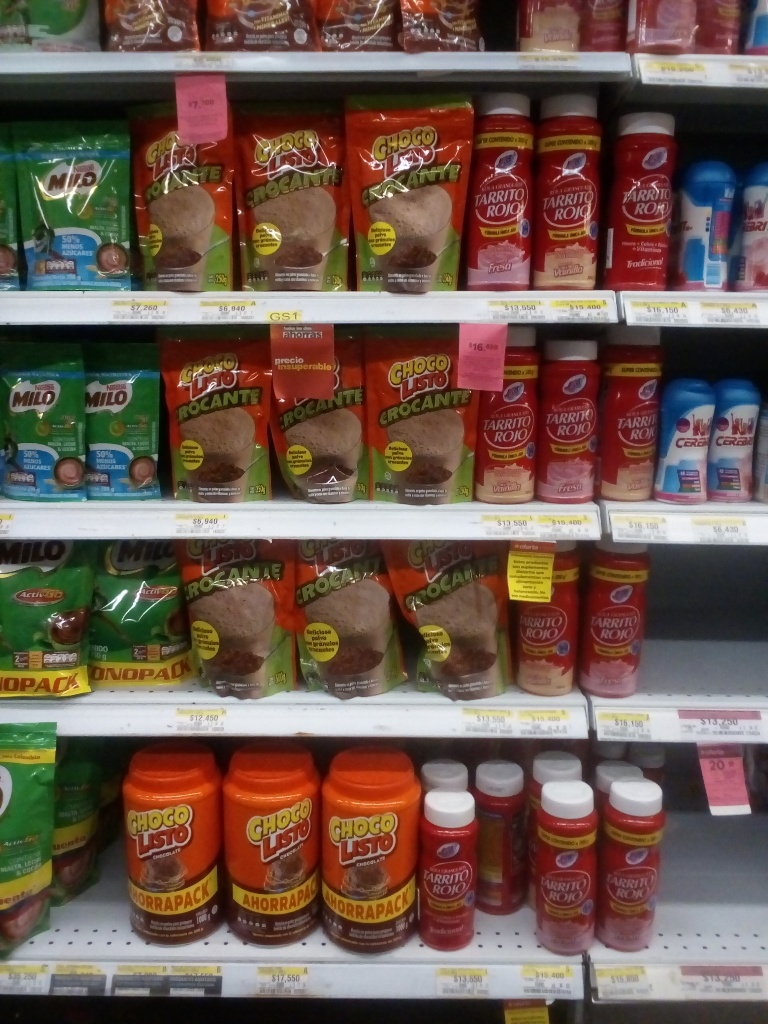COL0170102DYP25000: (129, 108, 240, 287)
COL0170102DYP50000: (183, 536, 299, 699)
COL0170103TRR00100: (110, 744, 227, 947)
COL0170205DYP20000: (11, 119, 136, 291)
